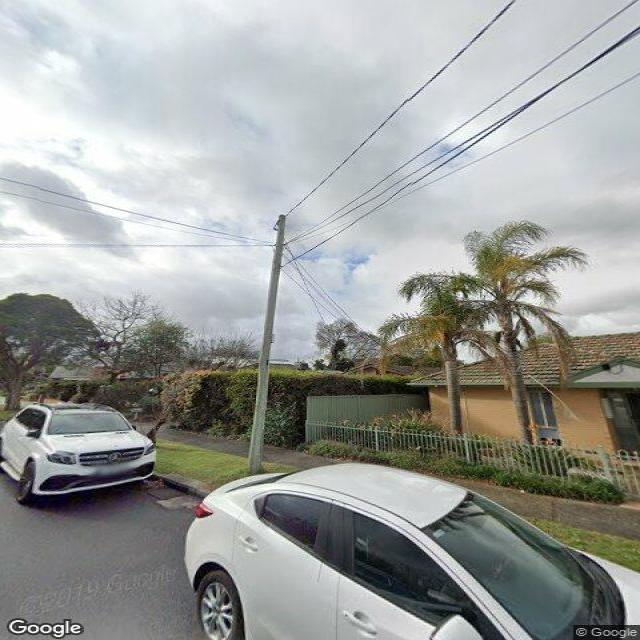timber-pole: (247, 215, 287, 474)
